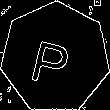P_N: (31, 29, 79, 86)
